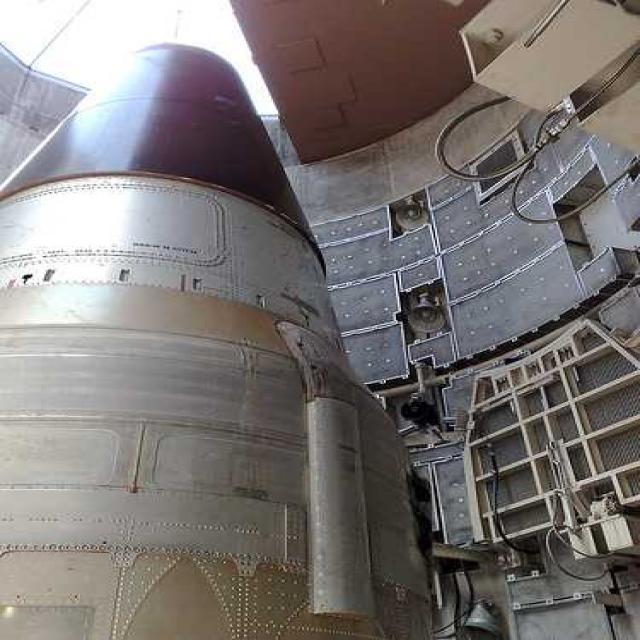missile: (0, 25, 432, 640)
